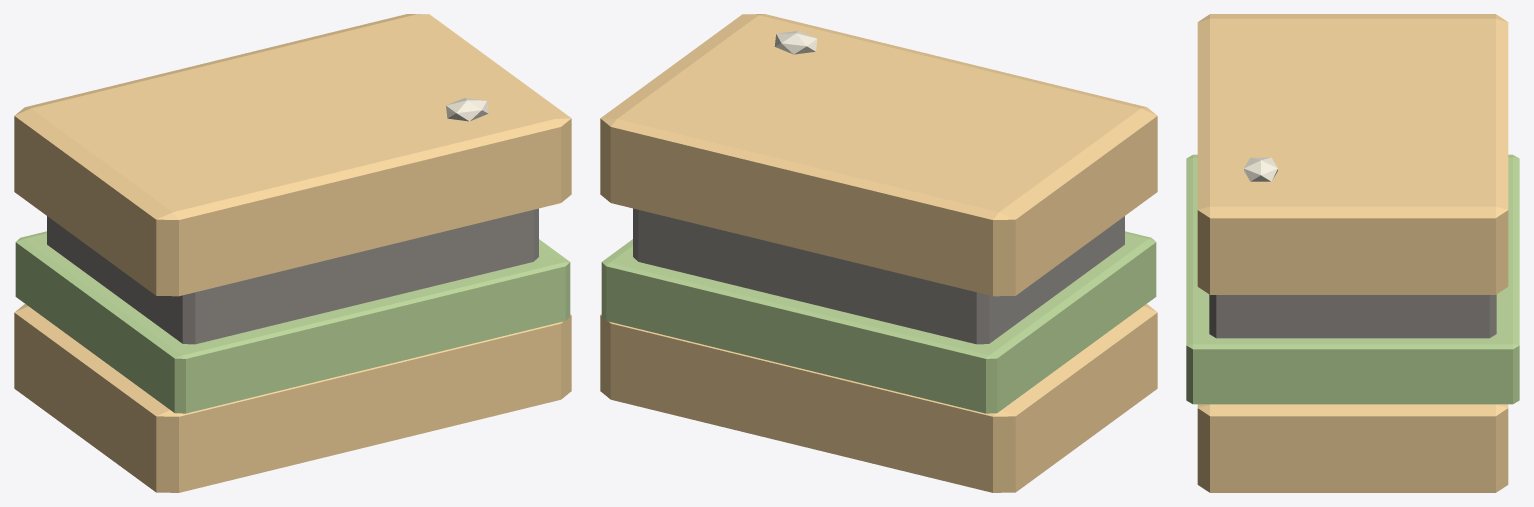
Rendered from sandwich-B-yt8uiW.glb.
3 views of the same model, side by side, from view 1: azimuth 30°, elevation 25°; view 2: azimuth 150°, elevation 25°; view 3: azimuth 270°, elevation 25° (orthographic).
Parts seen in each view (by area): view 1: sandwich_top_bread, sandwich_bottom_bread, sandwich_greens, sandwich_filling, sandwich_crust_spot; view 2: sandwich_top_bread, sandwich_bottom_bread, sandwich_greens, sandwich_filling, sandwich_crust_spot; view 3: sandwich_top_bread, sandwich_greens, sandwich_bottom_bread, sandwich_filling, sandwich_crust_spot.
Part boxes in pixels (x1=…): sandwich_top_bread: x1=14, y1=14, x2=571, y2=296; sandwich_bottom_bread: x1=14, y1=304, x2=571, y2=492; sandwich_greens: x1=15, y1=231, x2=570, y2=413; sandwich_filling: x1=47, y1=208, x2=538, y2=344; sandwich_crust_spot: x1=446, y1=97, x2=488, y2=121; sandwich_top_bread: x1=600, y1=14, x2=1157, y2=296; sandwich_bottom_bread: x1=600, y1=304, x2=1157, y2=492; sandwich_greens: x1=601, y1=231, x2=1156, y2=413; sandwich_filling: x1=633, y1=208, x2=1124, y2=344; sandwich_crust_spot: x1=774, y1=31, x2=817, y2=54; sandwich_top_bread: x1=1197, y1=14, x2=1508, y2=294; sandwich_greens: x1=1186, y1=154, x2=1519, y2=404; sandwich_bottom_bread: x1=1197, y1=404, x2=1508, y2=492; sandwich_filling: x1=1209, y1=294, x2=1496, y2=338; sandwich_crust_spot: x1=1244, y1=157, x2=1277, y2=181.
Size of the model in its own units: 0.42 by 0.285 by 0.29.
